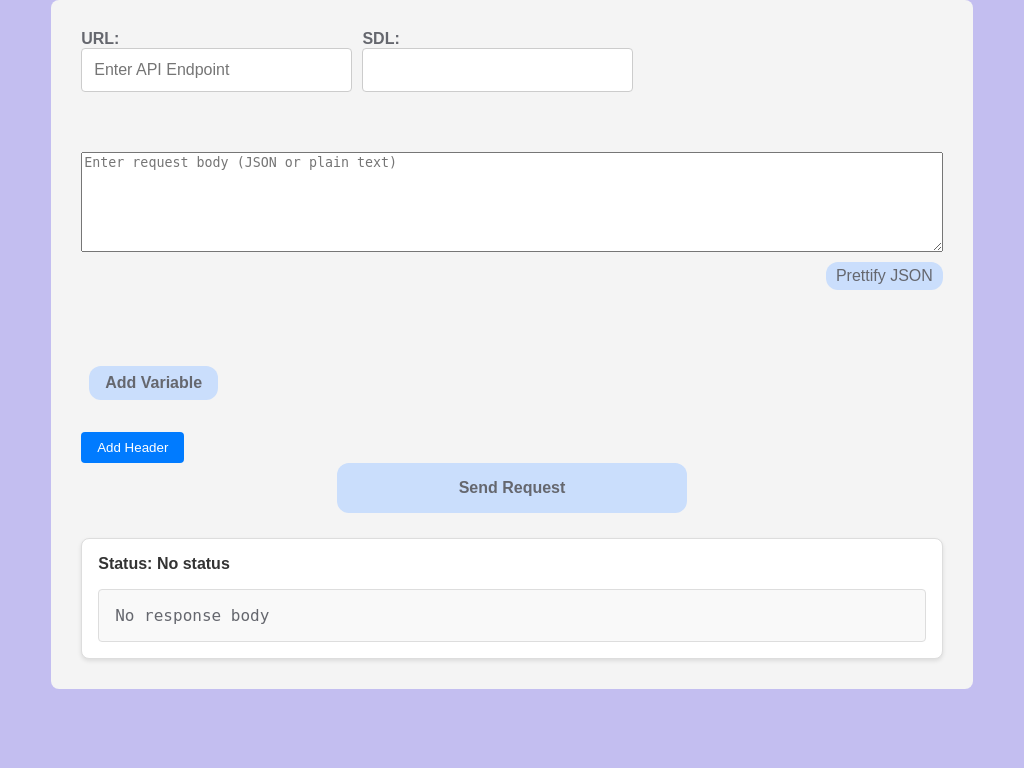
shows error when empty url
The image size is (1024, 768).
Click the button "Send Request".
click(512, 488)  # box [337,463,687,513]
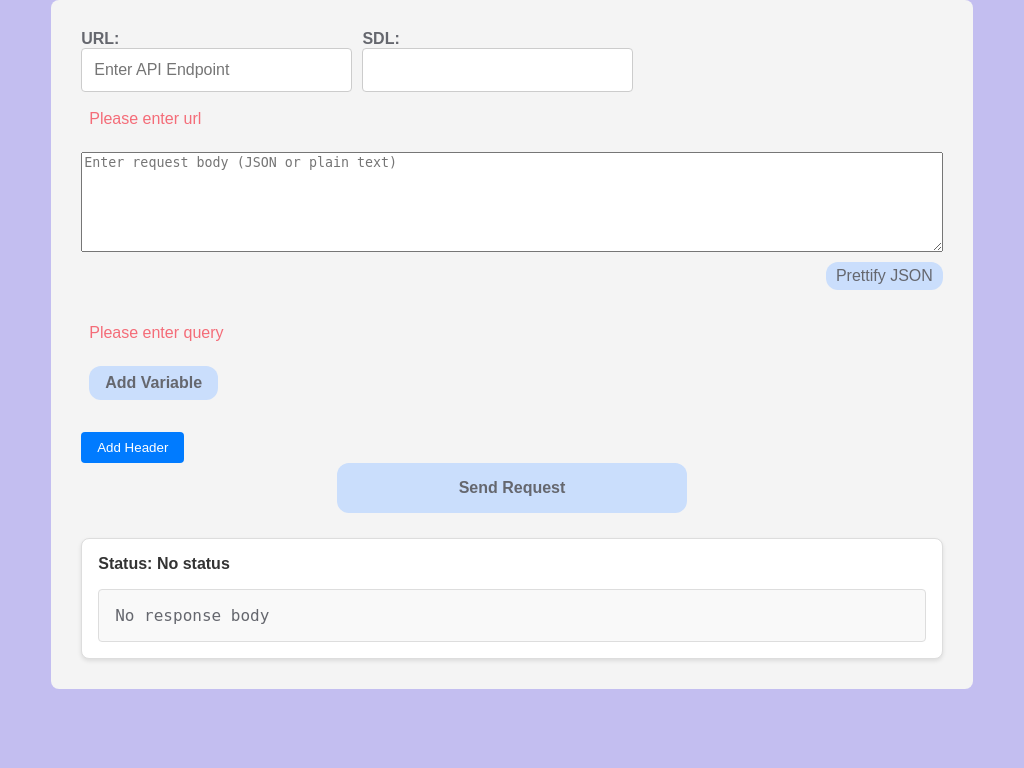
Expected: the text "Please enter url" is shown, [89,110,201,127]
